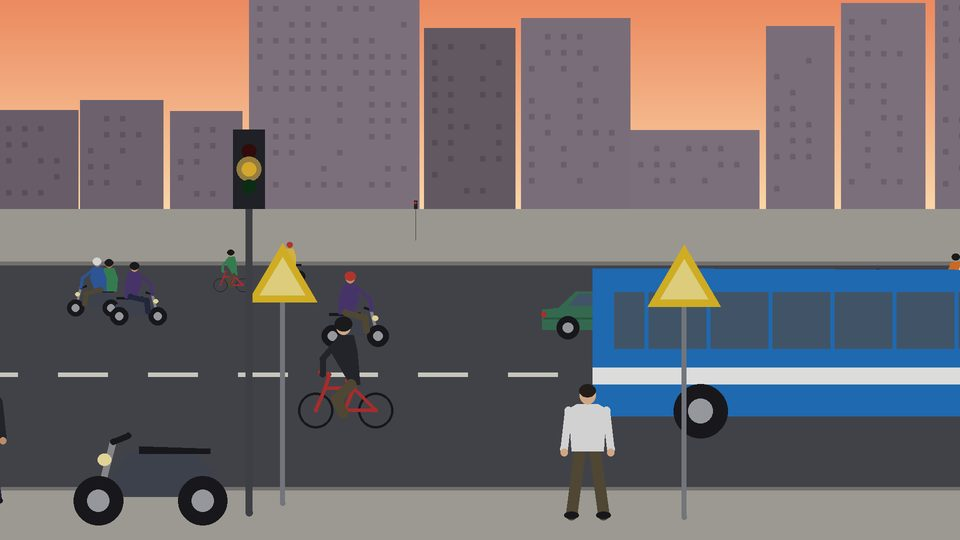Bus: (593, 269, 960, 439)
Car: (542, 292, 593, 340)
Cyclist: (298, 317, 393, 429), (214, 250, 250, 292)
Motorcycle: (74, 433, 228, 526)
Motorcyclist: (322, 272, 389, 347), (110, 262, 167, 326), (67, 258, 118, 317), (287, 242, 296, 264)
Pedestrian: (560, 384, 615, 521), (0, 398, 7, 445)
Sign: (648, 245, 721, 307), (248, 244, 318, 303)
Traffic light: (233, 130, 265, 209)
